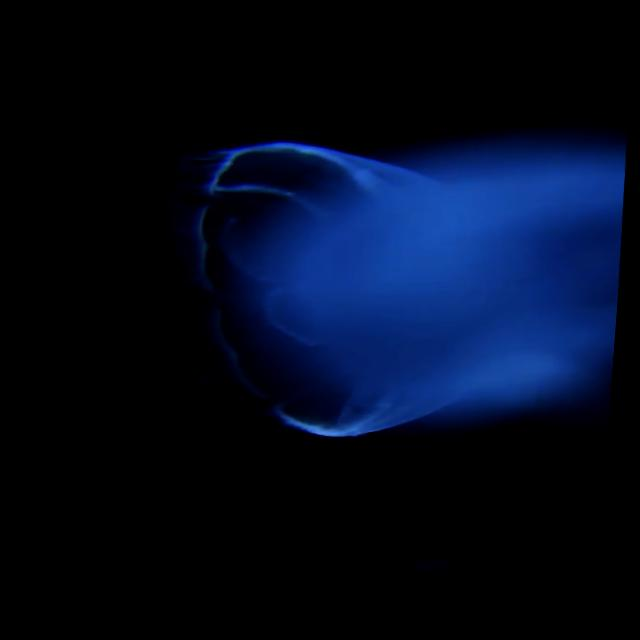Moon-jellyfish: (174, 137, 628, 436)
